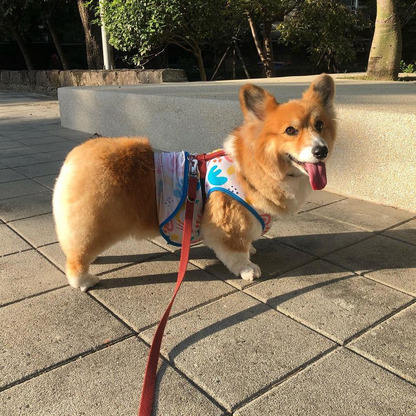Corgi: (47, 73, 342, 289)
